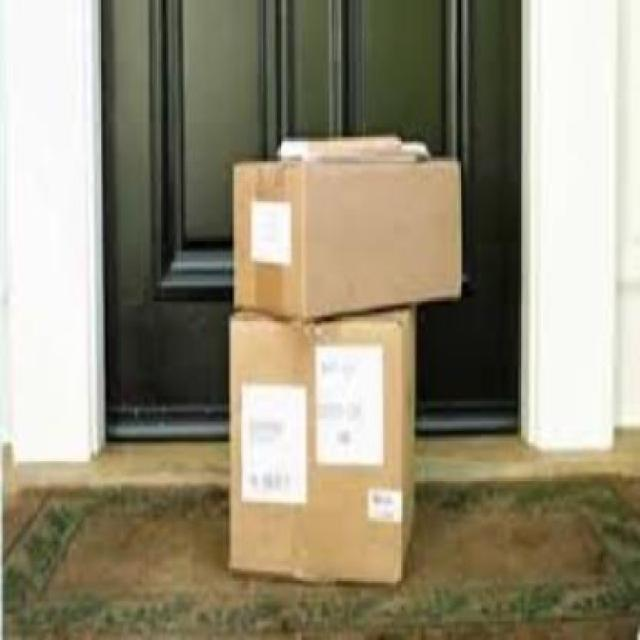cardboxes: (223, 317, 423, 595), (228, 148, 467, 320)
